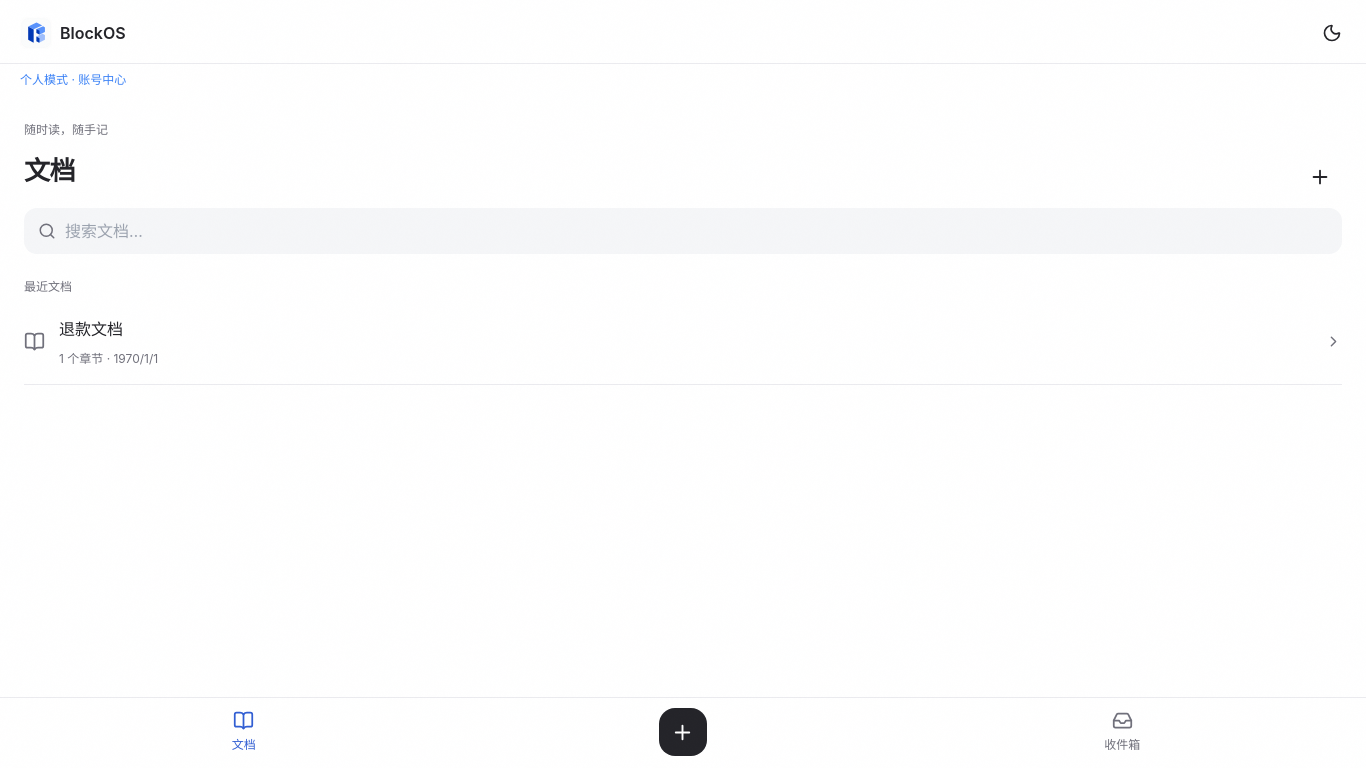
Test case: Mobile reading, light editing and quick capture › keeps the editing draft and original base version on a cloud conflict
Click the button "退款文档 1 个章节 · 1970/1/1". click: click(91, 329)
box: [24,300,1342,385]
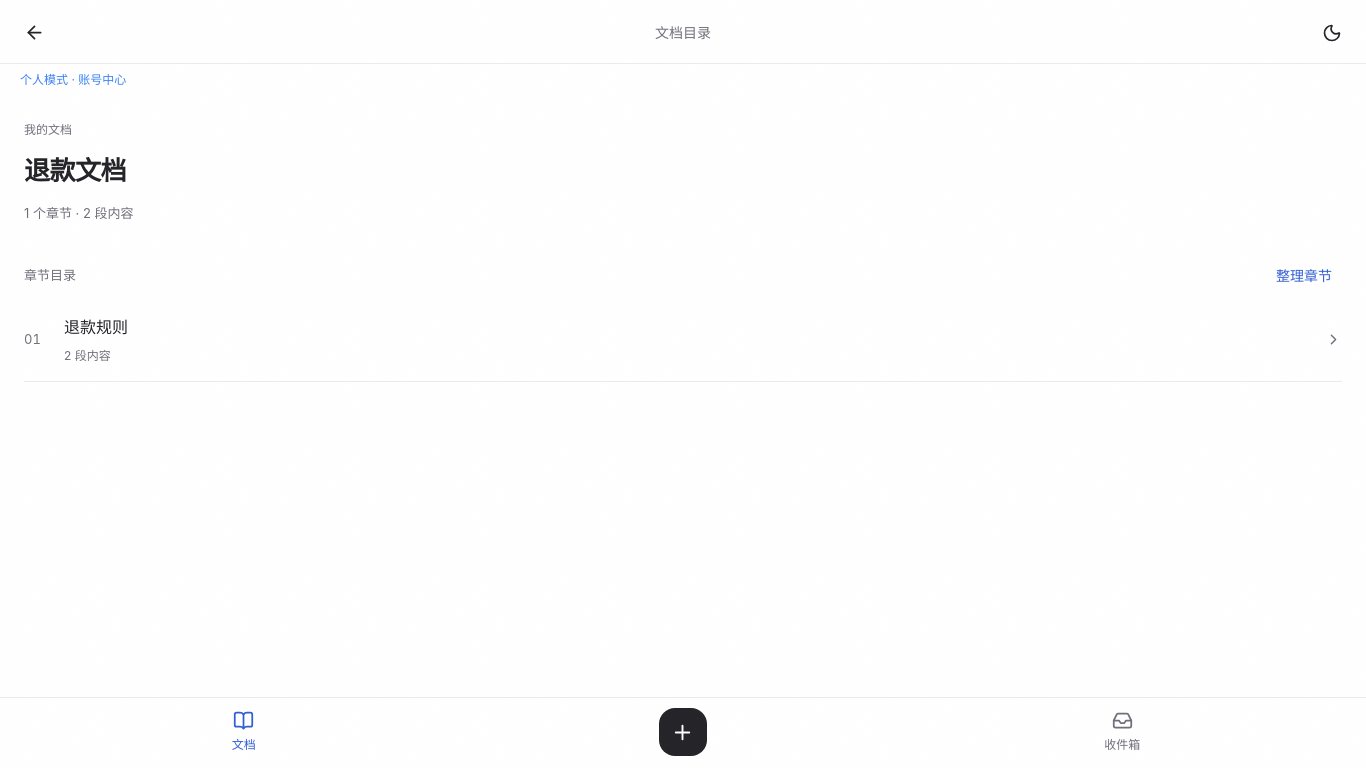
Click the button "01 退款规则 2 段内容". click: click(96, 327)
box: [24,298,1342,382]
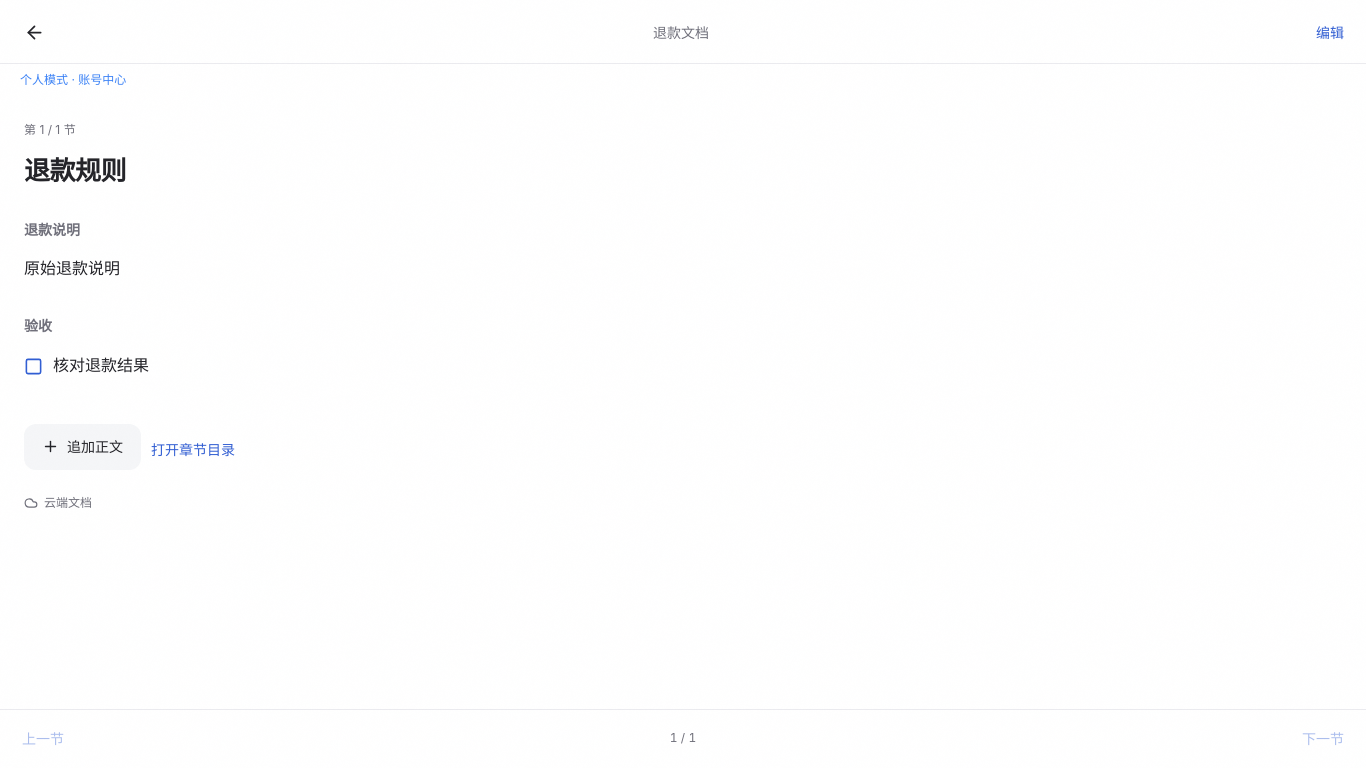
Result: the text "原始退款说明" is shown at [24,258,120,278]
Result: the text "核对退款结果" is shown at [53,350,149,380]
Click the button "编辑". click: click(1330, 32)
box: [1306,10,1354,54]
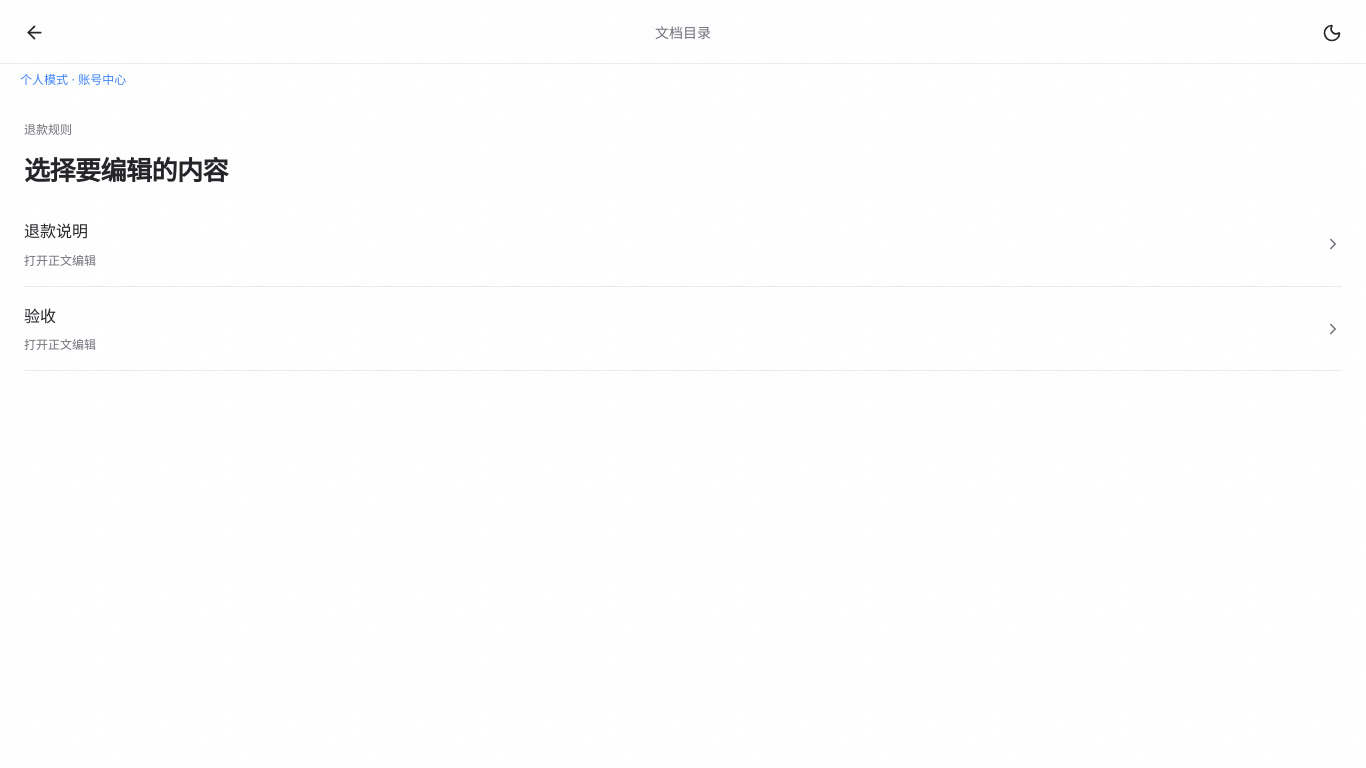
Click the button "退款说明 打开正文编辑". click: click(56, 231)
box: [24,202,1342,287]
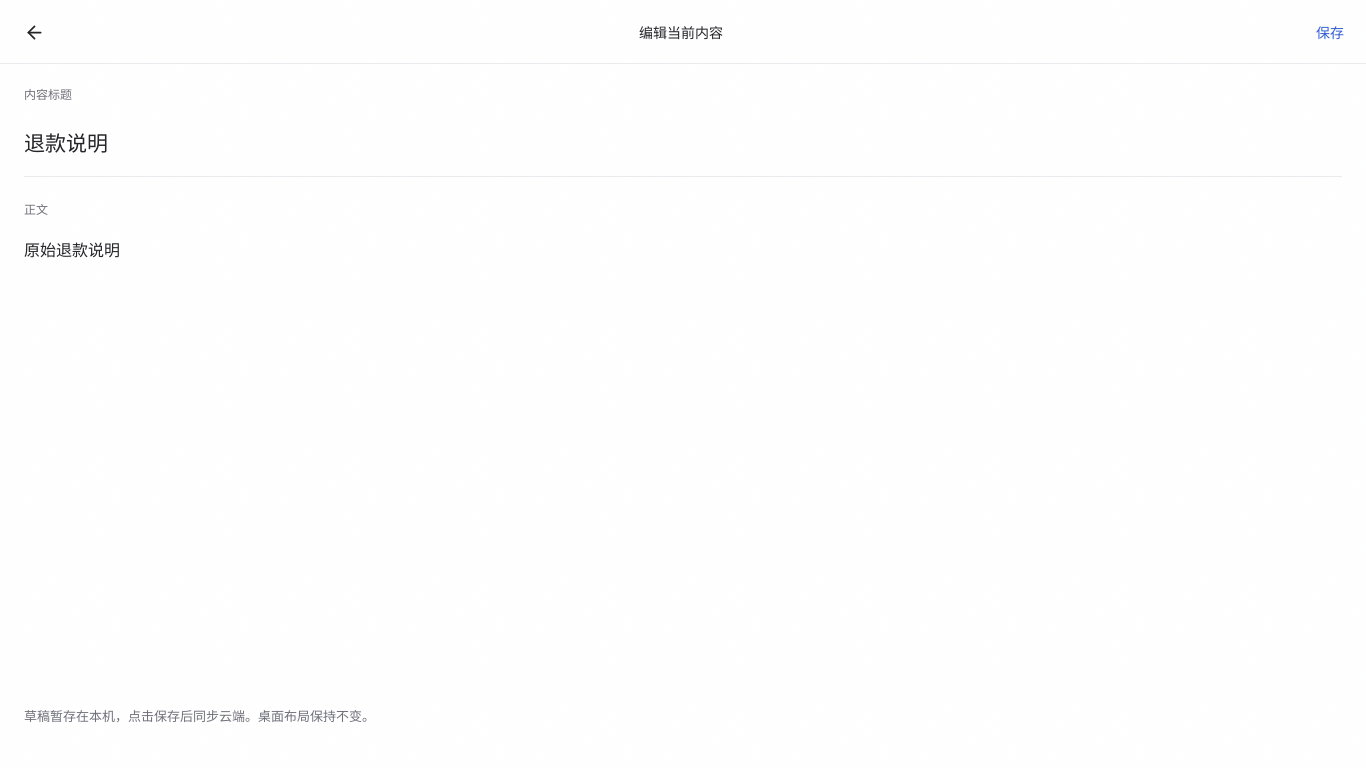
Replace the text in the text box labelled "正文" with "手机上更新的退款说明". click: (683, 456)
box: [24,231,1342,681]
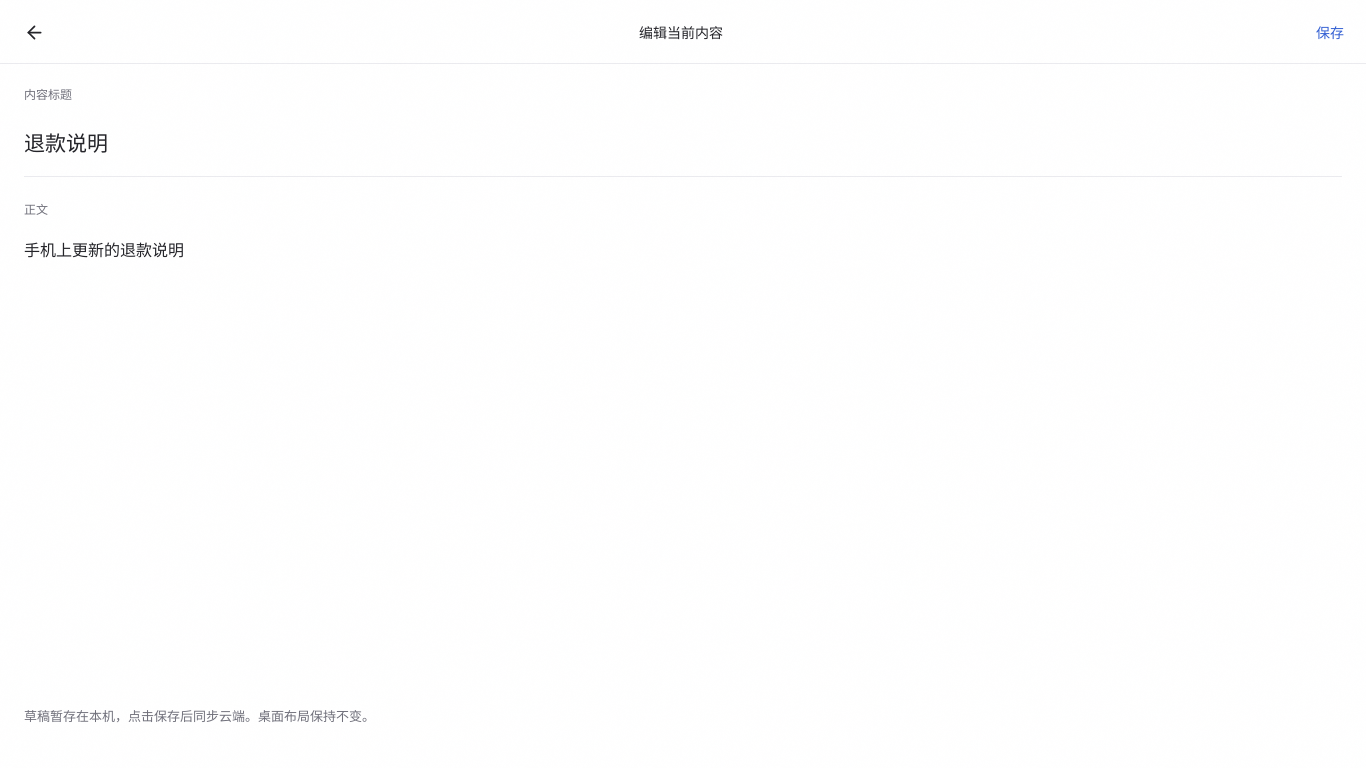
Click the button "保存". click: click(1330, 32)
box: [1306,10,1354,54]
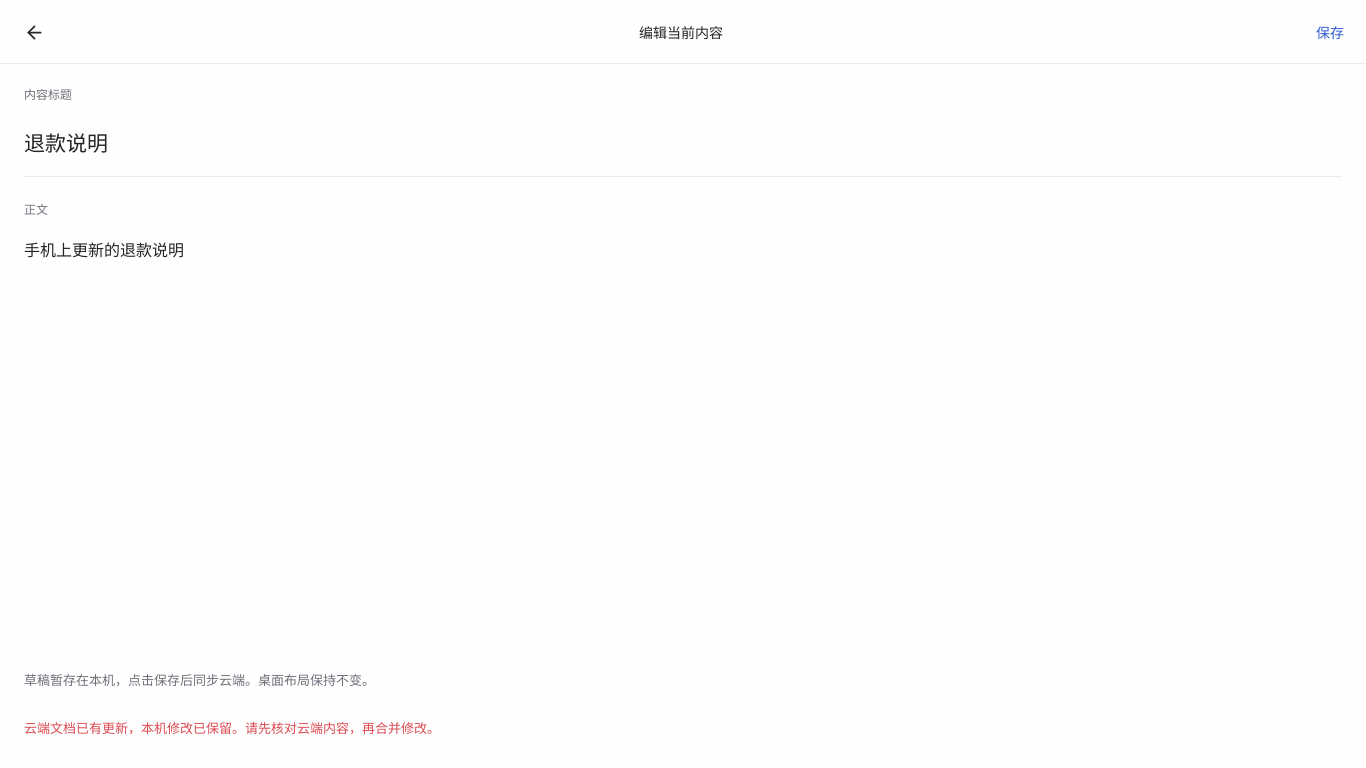
Result: the message shows "云端文档已有更新" at [24,720,440,736]
